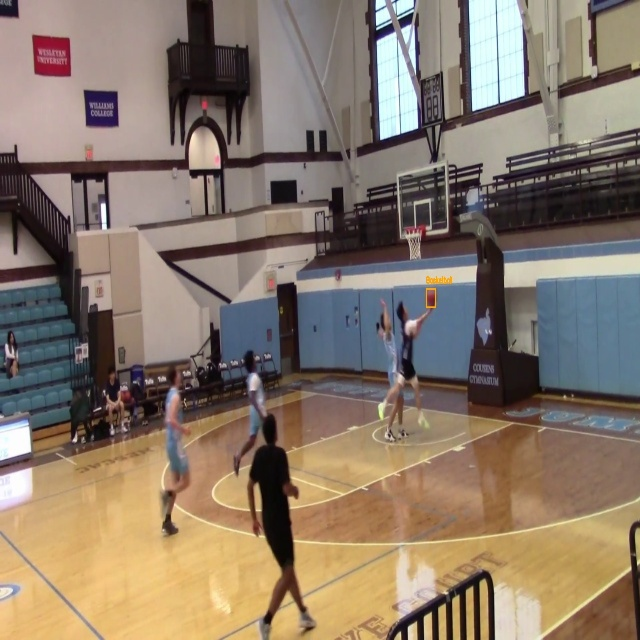Basketball: (426, 289, 436, 307)
